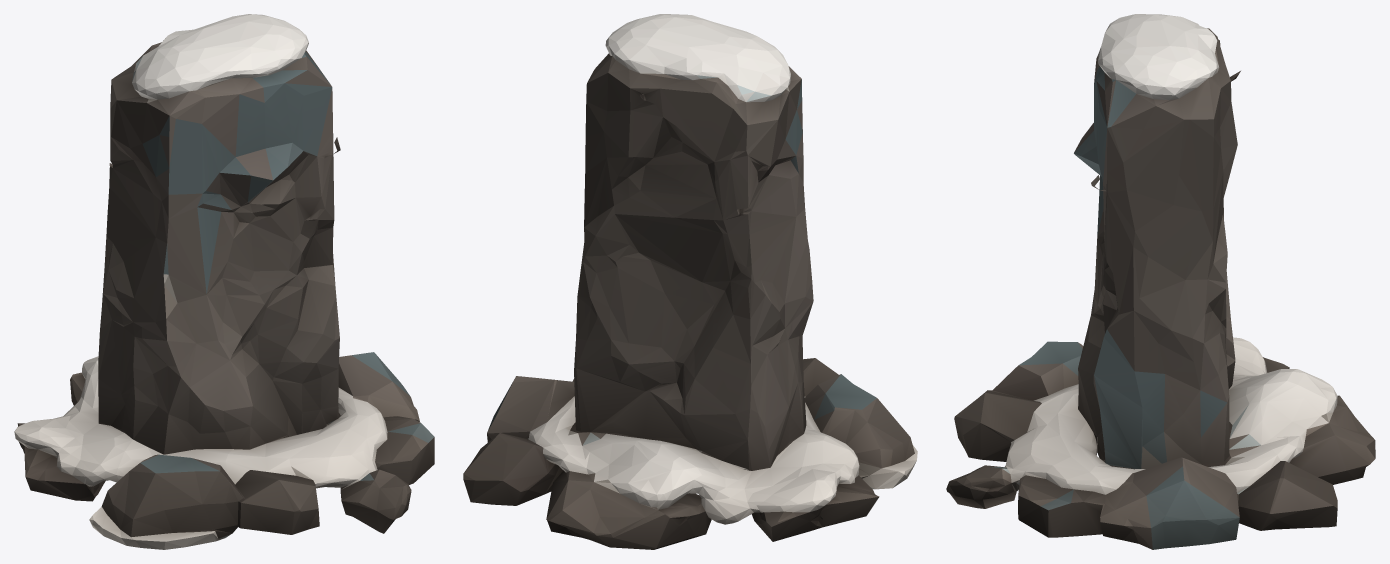
Rendered from frost_waystone_vc.glb.
3 views of the same model, side by side, from view 1: azimuth 30°, elevation 25°; view 2: azimuth 150°, elevation 25°; view 3: azimuth 270°, elevation 25° (orthographic).
Visible parts, largest first — view 1: ca_frost_waystone_vc; view 2: ca_frost_waystone_vc; view 3: ca_frost_waystone_vc.
Boxes of the visible parts, x1,y1,x2,y2 form: ca_frost_waystone_vc: [14, 14, 434, 549]; ca_frost_waystone_vc: [463, 14, 917, 549]; ca_frost_waystone_vc: [946, 14, 1375, 549].
Size of the model in its own units: 1.2 by 1.35 by 1.19.
Materials: 1 (1 with a texture image).
